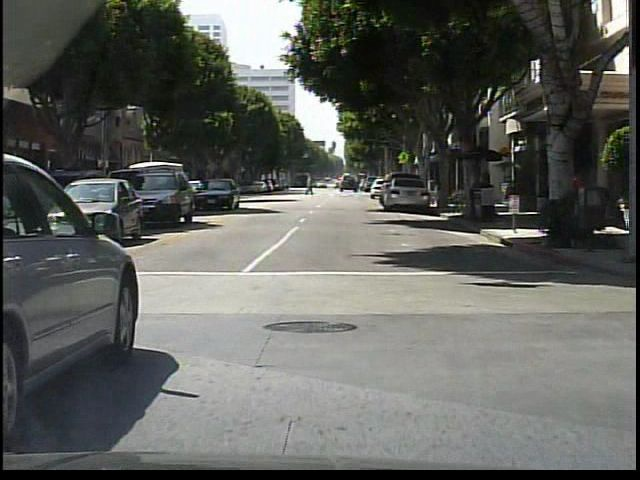person: (568, 168, 584, 237), (471, 167, 488, 222), (305, 178, 315, 197)
